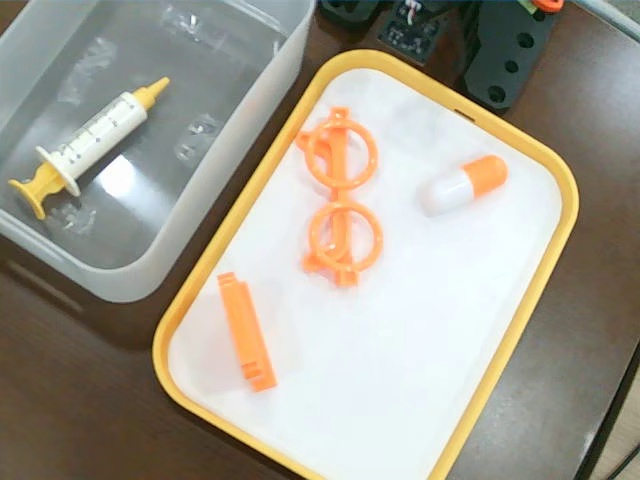pill: (424, 155, 509, 215)
syringe: (8, 75, 172, 220)
